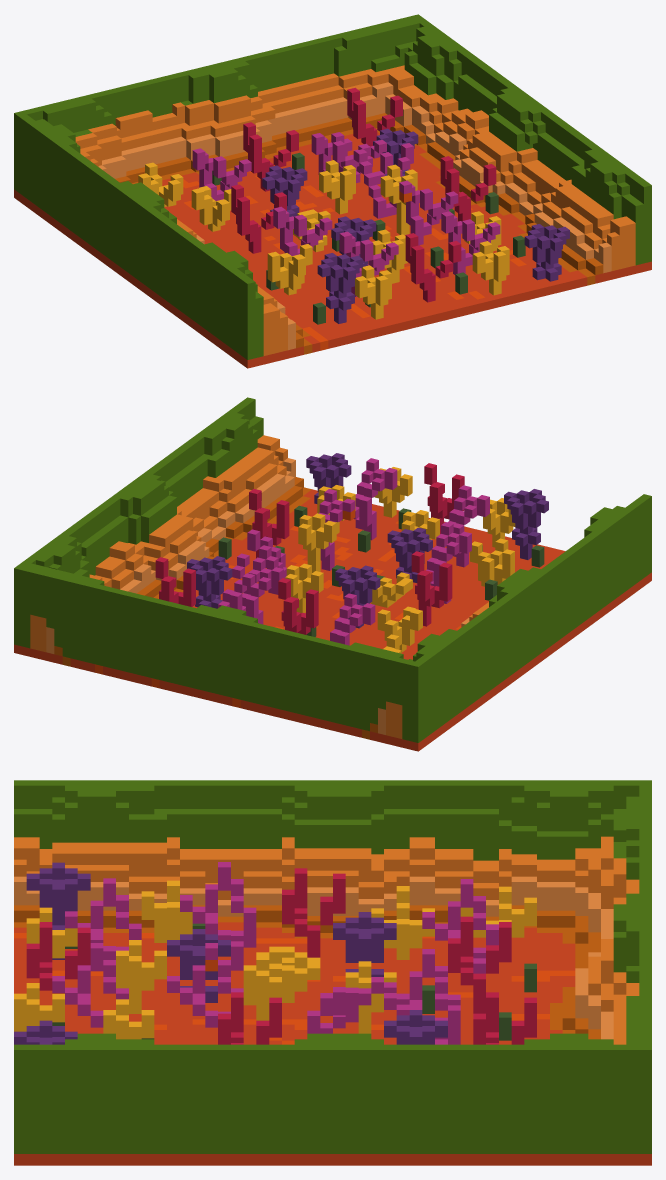
The model's file is western14.obj.
The picture shows the model from 3 angles, top to bottom: view 1: azimuth 30°, elevation 25°; view 2: azimuth 150°, elevation 25°; view 3: azimuth 270°, elevation 25°; orthographic projection. The views are drawn at different scales.
Bounding box in the file's own units: 5 × 1 × 5.
1 material, 1 textured.
